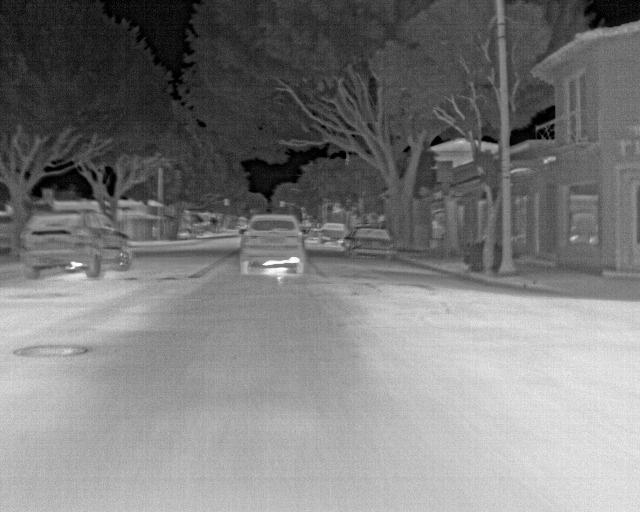car: (20, 208, 130, 280), (238, 213, 307, 275), (342, 226, 394, 263), (320, 221, 342, 243), (174, 227, 192, 240), (307, 226, 320, 241)
